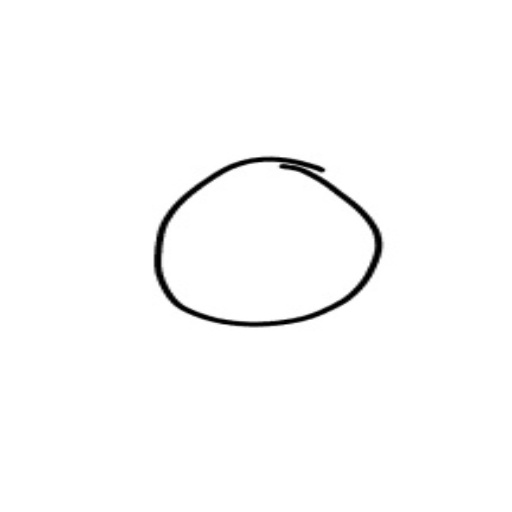circle: (143, 145, 398, 339)
